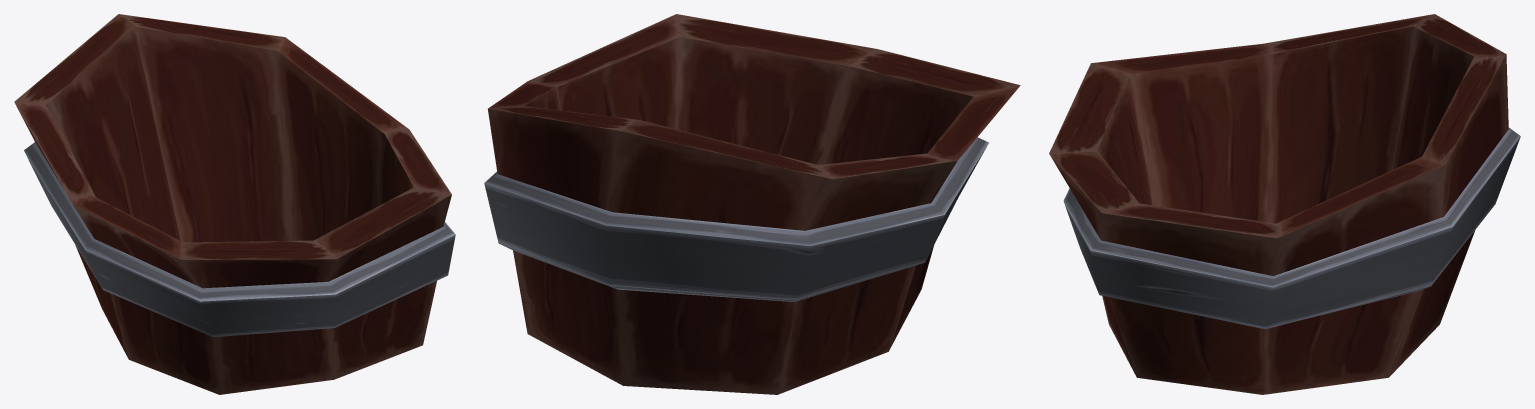
The model's file is SM_PROP_bucket_01.glb.
3 views of the same model, side by side, from view 1: azimuth 30°, elevation 25°; view 2: azimuth 150°, elevation 25°; view 3: azimuth 270°, elevation 25° (orthographic). The views are drawn at different scales.
Visible parts, largest first — view 1: SM_PROP_bucket_01_EXPORT; view 2: SM_PROP_bucket_01_EXPORT; view 3: SM_PROP_bucket_01_EXPORT.
Part boxes in pixels (<box>): SM_PROP_bucket_01_EXPORT: <box>14,14,455,394</box>; SM_PROP_bucket_01_EXPORT: <box>484,14,1020,394</box>; SM_PROP_bucket_01_EXPORT: <box>1049,14,1520,394</box>.
Bounding box in the file's own units: 0.5429 × 0.3584 × 0.6022.
2 materials, 2 textured.
